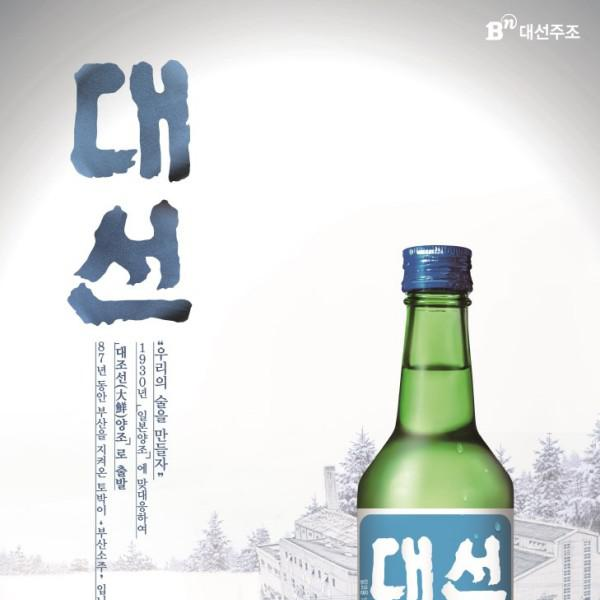soju: (352, 243, 518, 600)
